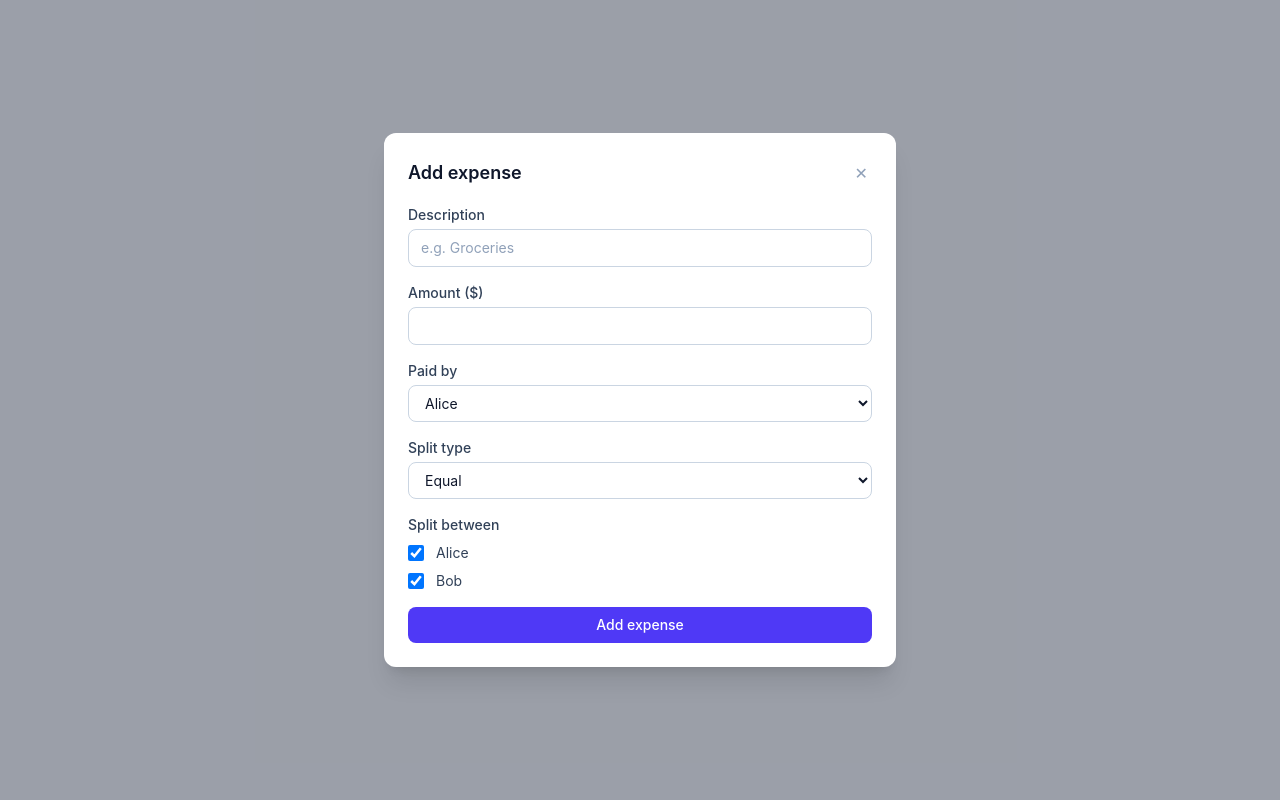
Scenario: AddExpenseModal › requires a description and a positive amount
The image size is (1280, 800).
Click the button "Add expense" at (640,625), box [408,607,872,643]
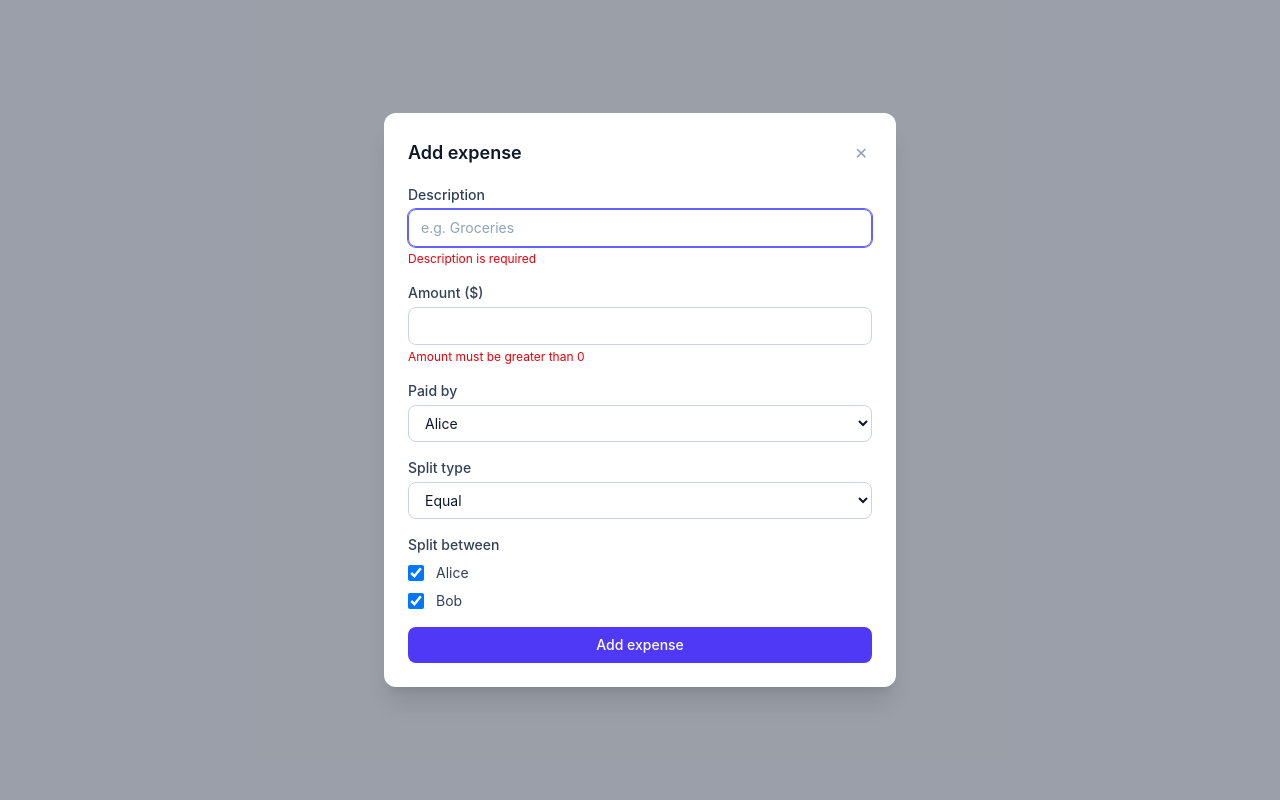
Result: the text "Description is required" is shown at [408,251,536,266]
Result: the text "Amount must be greater than 0" is shown at [408,349,584,364]
